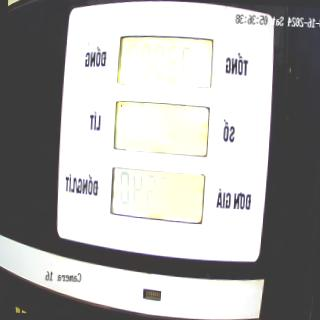screen: (107, 28, 216, 225)
